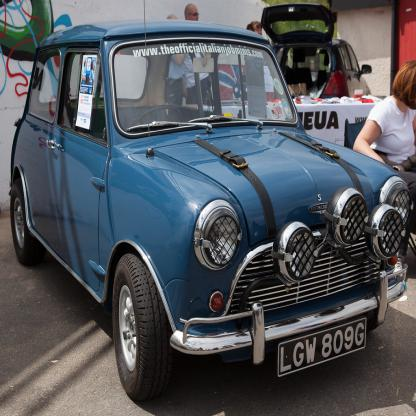car: (9, 22, 414, 409)
